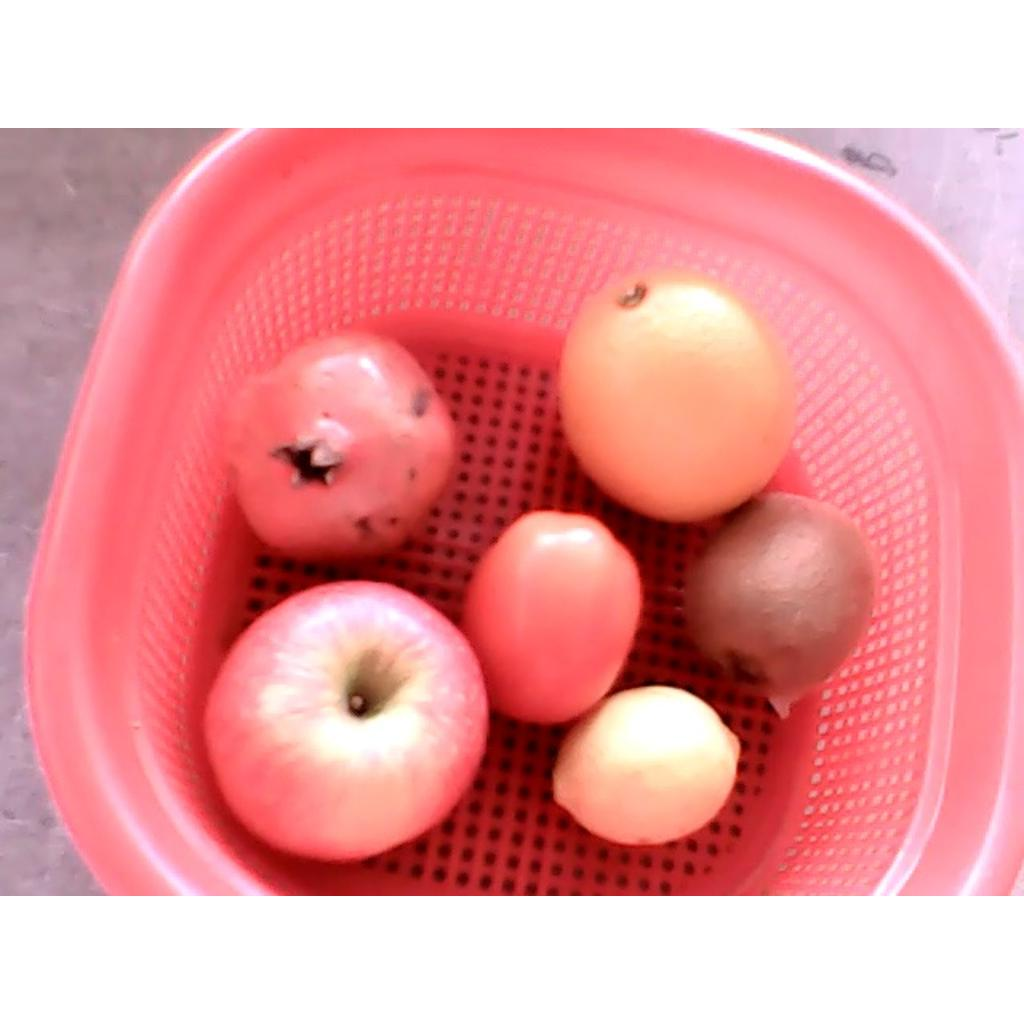apple: (204, 578, 488, 864)
kiwi: (688, 490, 875, 695)
lemon: (551, 683, 741, 844)
orange: (561, 269, 801, 522)
pomegranate: (215, 332, 455, 564)
tomato: (463, 510, 642, 723)
